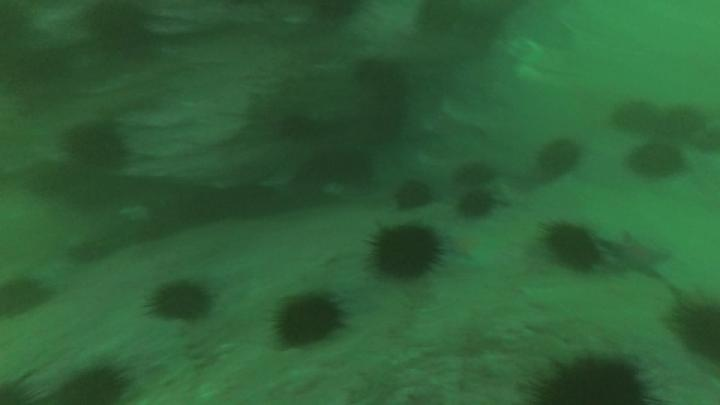echinus: (540, 356, 642, 405), (372, 229, 439, 277), (278, 300, 339, 346), (542, 225, 599, 272), (70, 124, 121, 167), (150, 285, 208, 321), (65, 370, 124, 405), (628, 142, 685, 176), (2, 277, 48, 313), (609, 99, 661, 130), (537, 139, 581, 175), (664, 105, 703, 138), (397, 184, 434, 210), (458, 164, 496, 189), (356, 61, 390, 87), (462, 191, 490, 216)
starfish: (604, 232, 671, 276)
